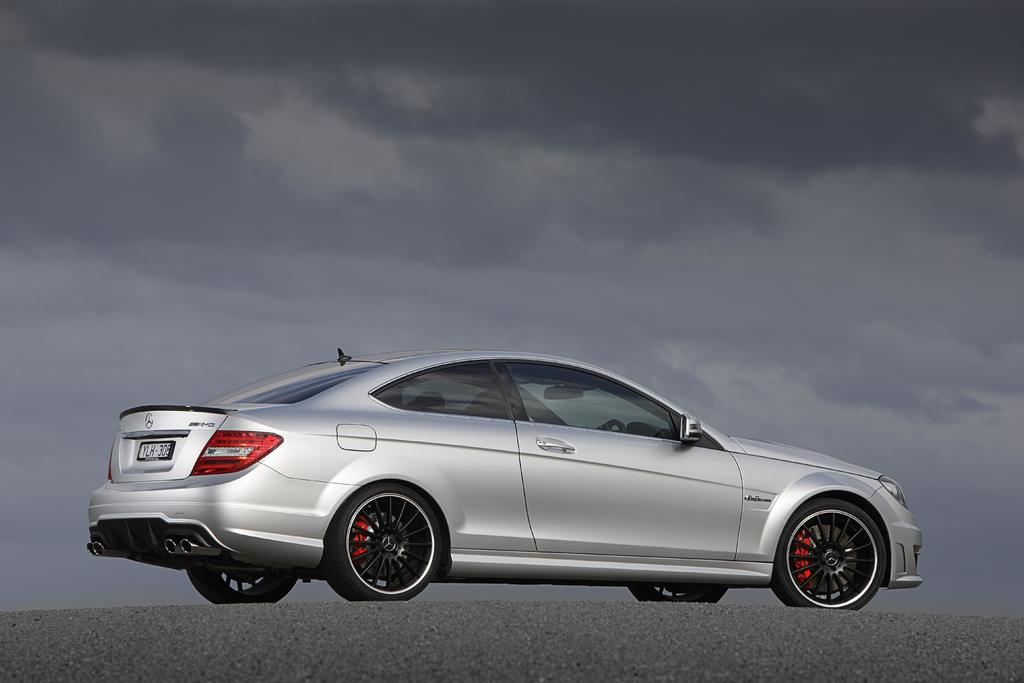Car: (85, 348, 923, 610)
